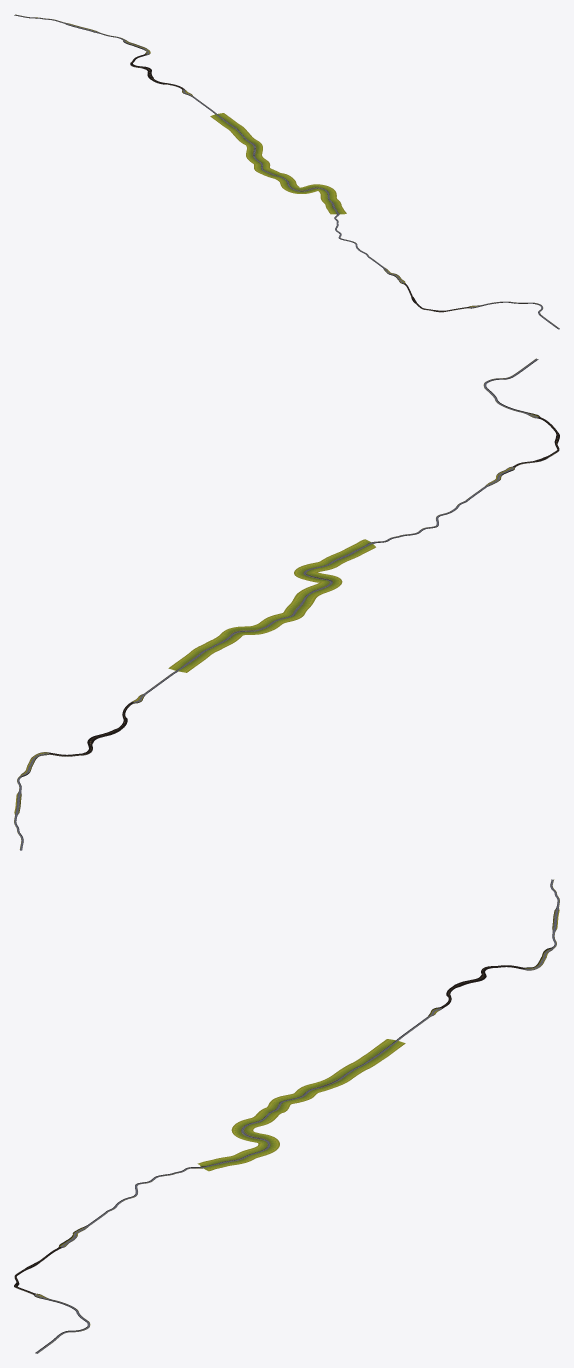
The model's file is course-cy3.glb.
The picture shows the model from 3 angles, top to bottom: view 1: azimuth 30°, elevation 25°; view 2: azimuth 150°, elevation 25°; view 3: azimuth 330°, elevation 25°; orthographic projection. The views are drawn at different scales.
Visible parts, largest first — view 1: course-cy3; view 2: course-cy3; view 3: course-cy3.
Part boxes in pixels (x1=…): course-cy3: x1=14, y1=14, x2=559, y2=329; course-cy3: x1=14, y1=358, x2=559, y2=850; course-cy3: x1=14, y1=879, x2=559, y2=1353.
Size of the model in its own units: 1269 by 104 by 11218.
Materials: 43 (43 with a texture image).
